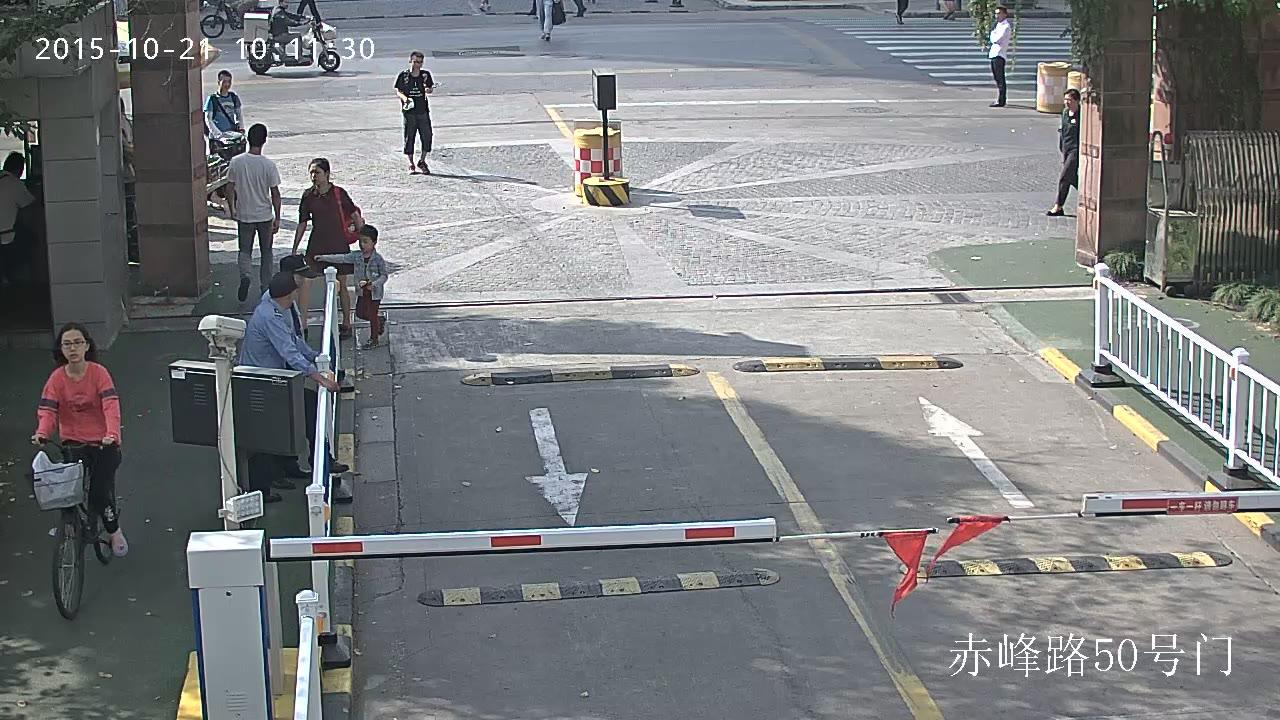person: (25, 322, 128, 619), (25, 323, 128, 556), (238, 273, 338, 502), (259, 254, 348, 472), (290, 158, 365, 339), (226, 124, 281, 302), (312, 223, 388, 350), (246, 0, 339, 75), (203, 70, 246, 219), (202, 70, 246, 198), (0, 152, 37, 289), (394, 52, 434, 175), (1047, 88, 1080, 215), (267, 0, 311, 63), (989, 7, 1012, 106), (535, 0, 565, 41), (295, 0, 321, 27), (895, 0, 910, 24)
